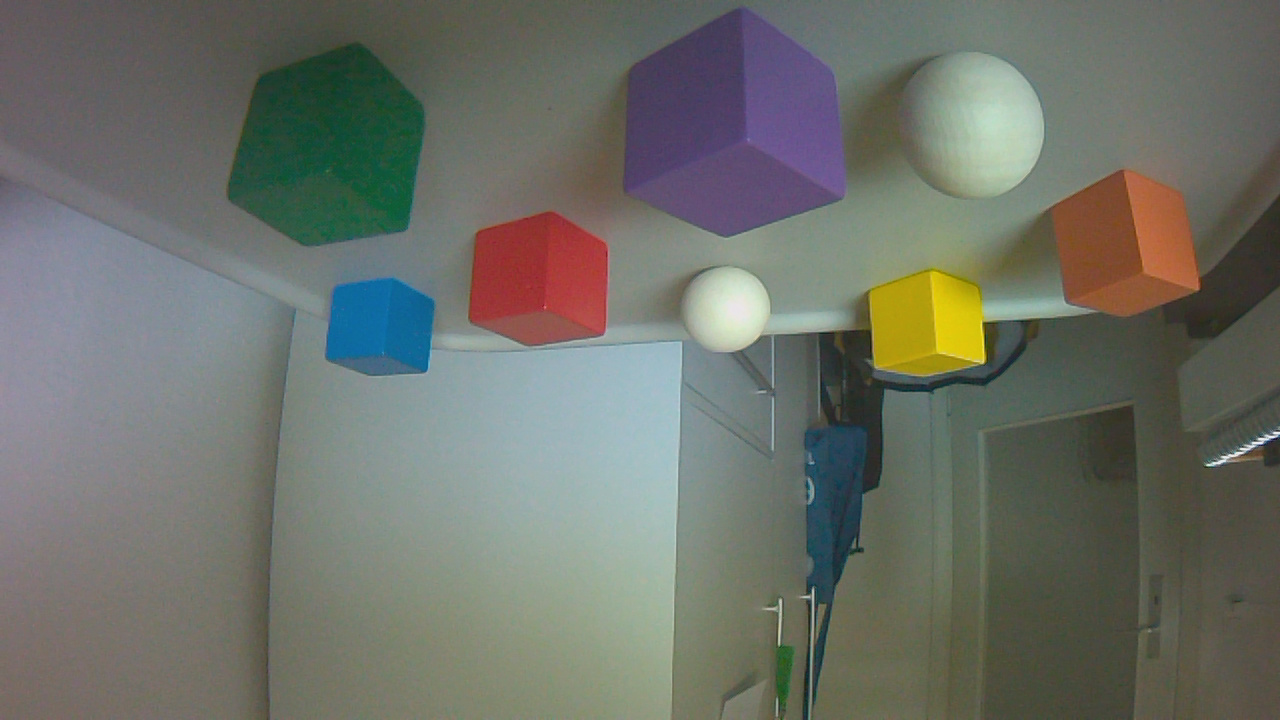ball: (896, 53, 1052, 208), (684, 267, 777, 360)
cube_blue: (328, 279, 442, 384)
cube_green: (230, 46, 432, 254)
cube_orange: (1054, 170, 1207, 326)
cube_purple: (627, 10, 853, 244)
cube_red: (472, 214, 616, 353)
cube_yellow: (871, 272, 992, 386)
